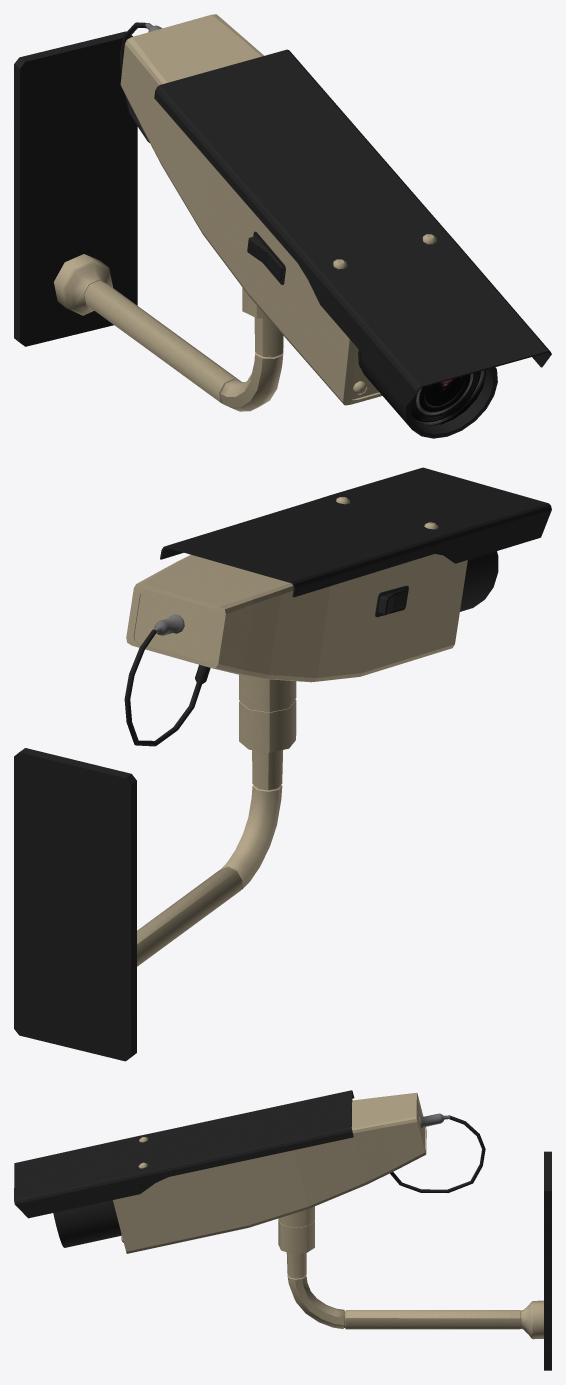
The model's file is camera_002.obj.
3 renders of one model, top to bottom at view 1: azimuth 30°, elevation 25°; view 2: azimuth 150°, elevation 25°; view 3: azimuth 270°, elevation 25°, orthographic. The views are drawn at different scales.
Parts seen in each view (by area): view 1: camera_002; view 2: camera_002; view 3: camera_002.
Part boxes in pixels (x1,y1,x2,y2): camera_002: (14, 14, 551, 438); camera_002: (14, 467, 551, 1061); camera_002: (14, 1090, 551, 1370).
Bounding box in the file's own units: 9.87 × 26.2 × 51.41.
Materials: 4 (4 with a texture image).
